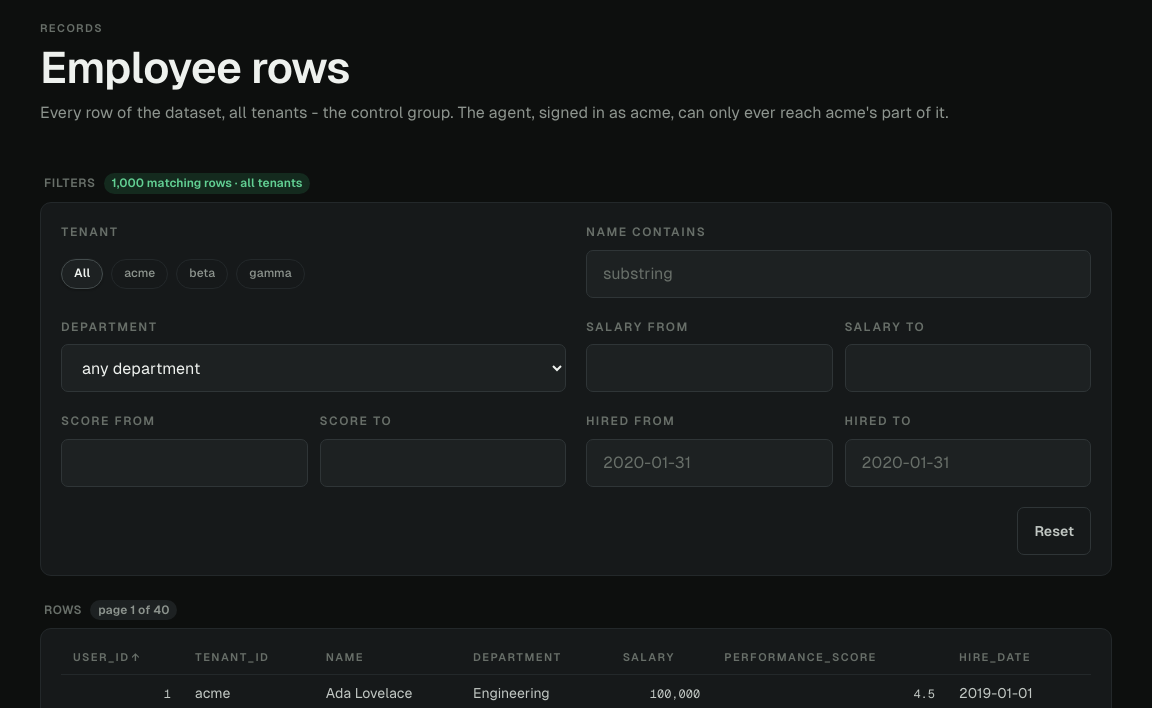
the records tab › keeps a half-typed value's refusal off the screen until the typing settles
Type "2020-0" into the field labelled "Hired from" at x=709, y=463, box [586,439,832,487]
Wait 350 ms
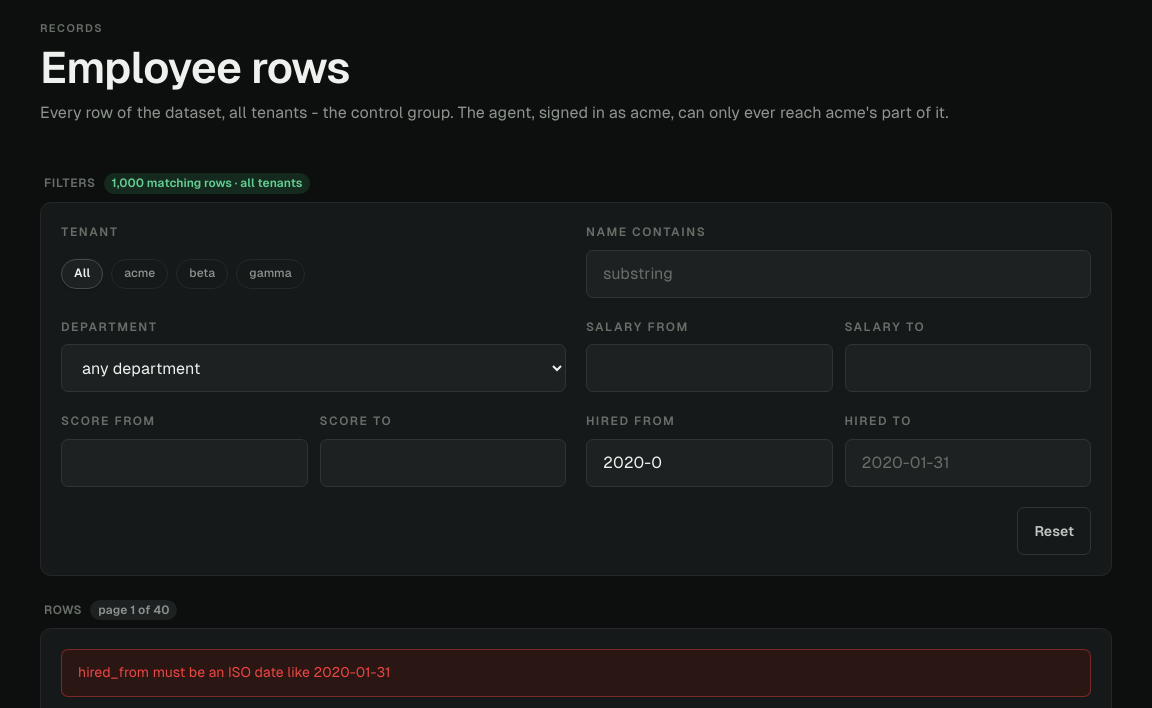
Check: the text "hired_from must be an ISO date like 2020-01-31" is shown, box [61,649,1091,697]
Replace the text in the field labelled "Hired from" with "2020-01" at x=709, y=463, box [586,439,832,487]
Wait 350 ms
(page scrolled)
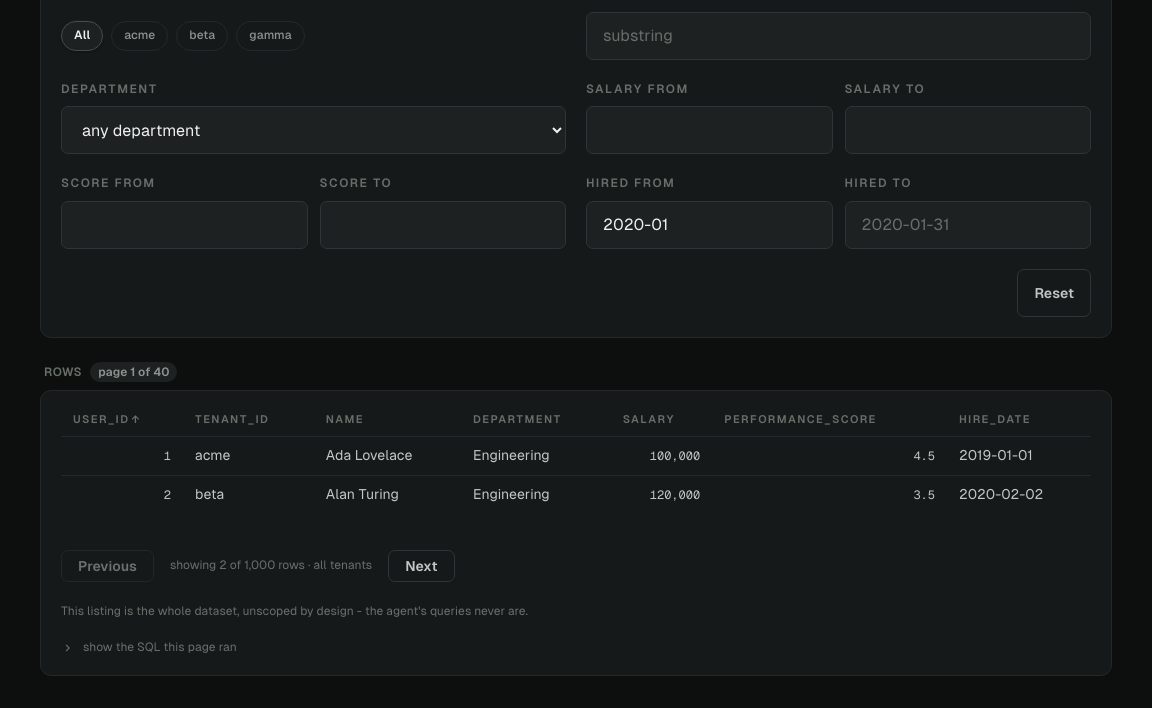
Check: the text "Ada Lovelace" is shown, box [314,437,461,476]
Check: the text "hired_from must be an ISO date like 2020-01-31" is gone
